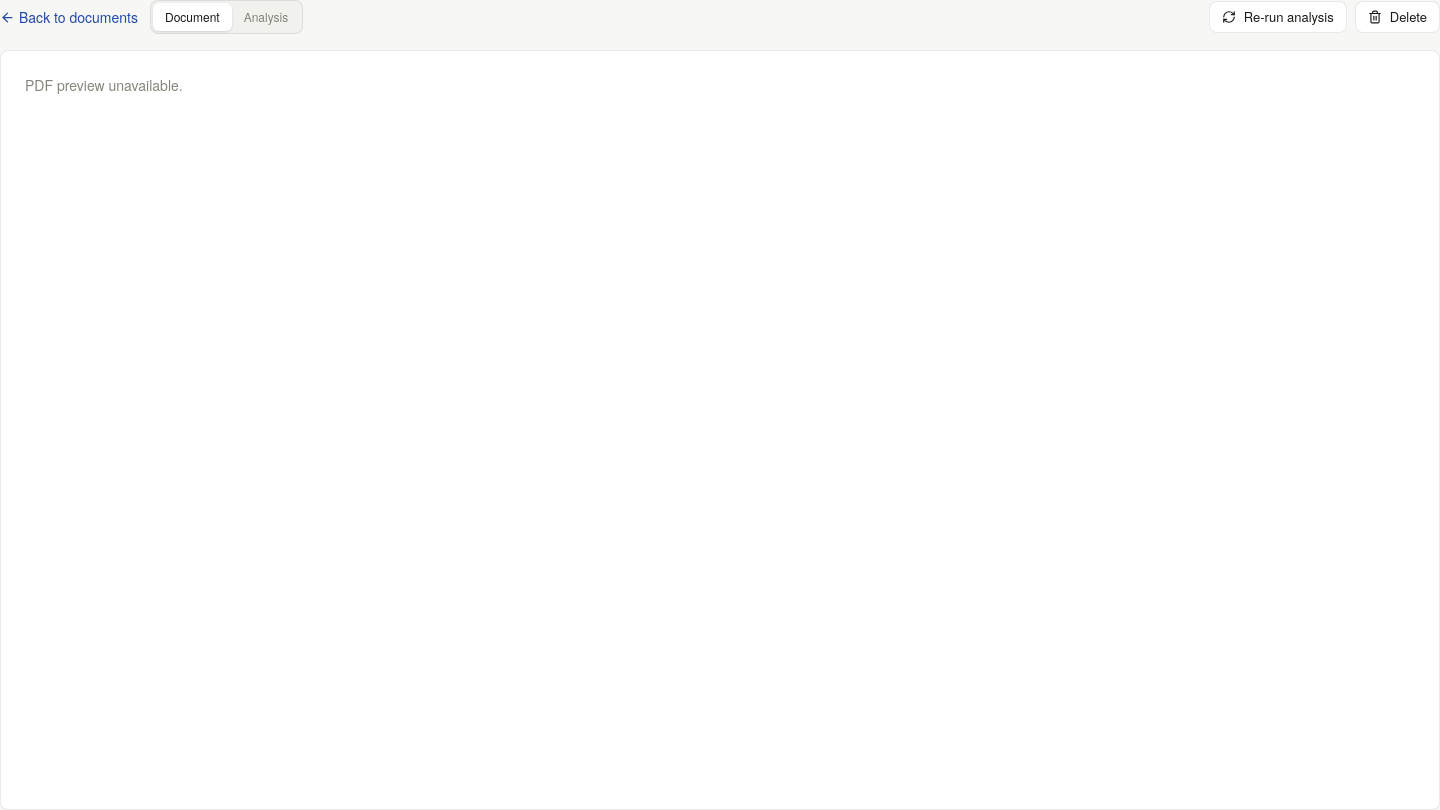
Scenario: shows clauses and a friendly message when the stored PDF is missing
The width and height of the screenshot is (1440, 810).
Expected: the text "PDF preview unavailable." is shown, x1=25 y1=75 x2=183 y2=95
Click the button "Analysis" at (266, 17), box x1=232 y1=3 x2=300 y2=31
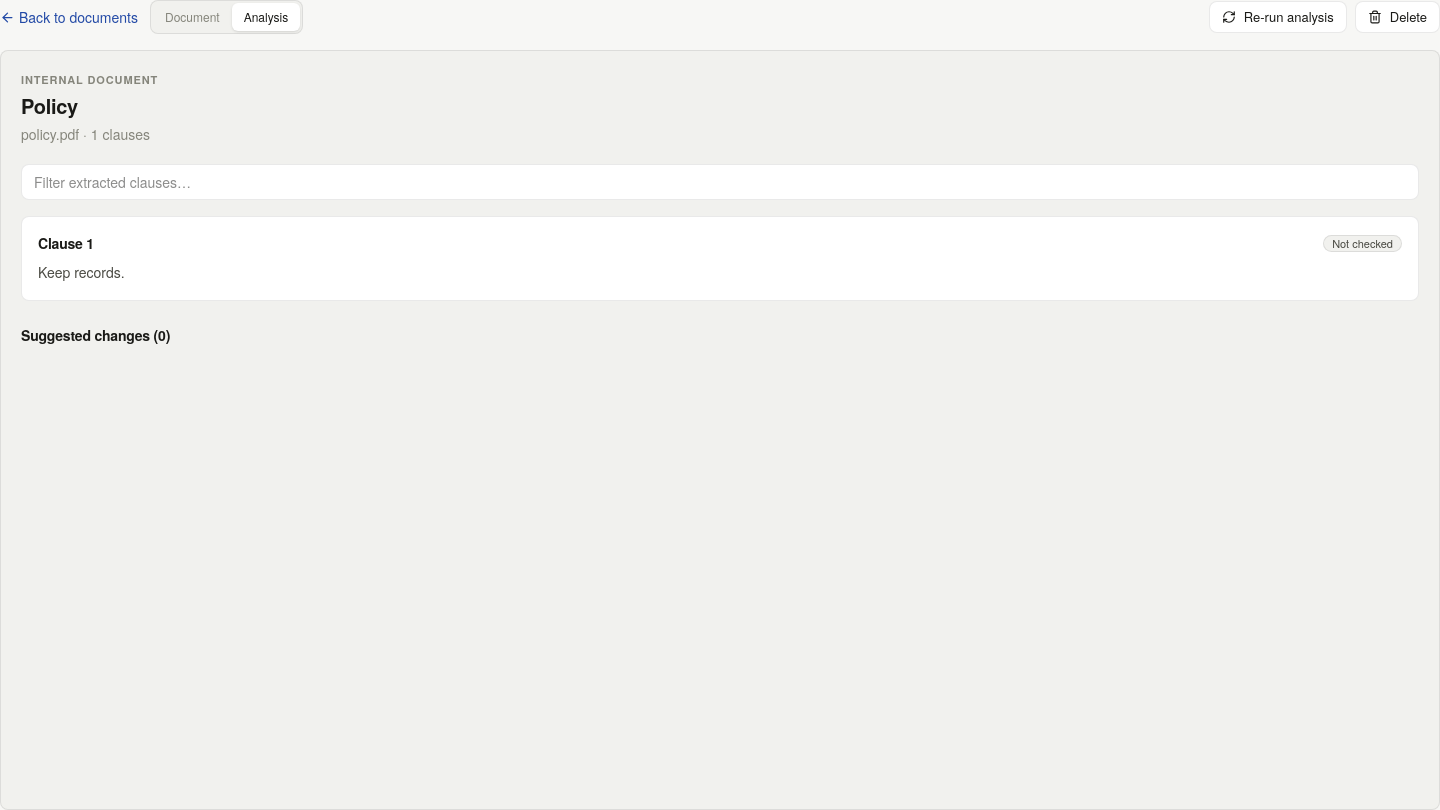
Now the heading "Clause 1" is shown, box x1=38 y1=233 x2=94 y2=253
Now the text "Keep records." is shown, box x1=38 y1=262 x2=125 y2=282
